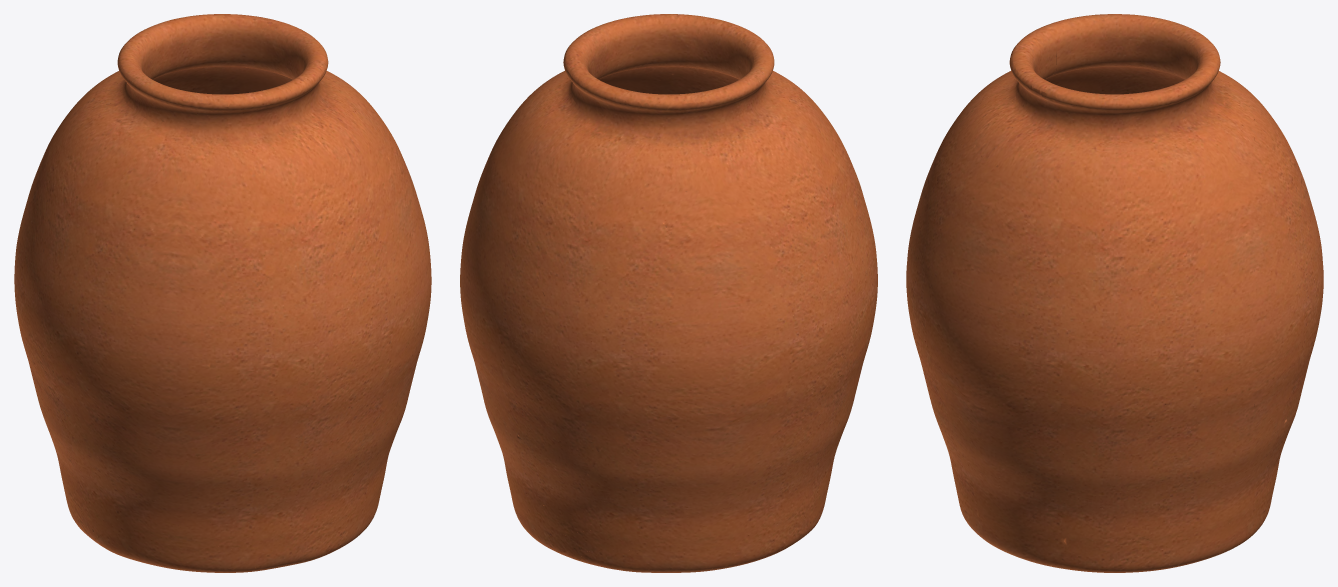
Rendered from obj_imported_pottery_ivik5b3_e0f6ec.glb.
The picture shows the model from 3 angles, left to right: view 1: azimuth 30°, elevation 25°; view 2: azimuth 150°, elevation 25°; view 3: azimuth 270°, elevation 25°; orthographic projection.
Visible parts, largest first — view 1: obj_imported_pottery_ivik5b3_e0f6ec; view 2: obj_imported_pottery_ivik5b3_e0f6ec; view 3: obj_imported_pottery_ivik5b3_e0f6ec.
Part boxes in pixels (x1,y1,x2,y2): obj_imported_pottery_ivik5b3_e0f6ec: [14, 14, 431, 572]; obj_imported_pottery_ivik5b3_e0f6ec: [460, 14, 877, 572]; obj_imported_pottery_ivik5b3_e0f6ec: [906, 14, 1323, 572].
Size of the model in its own units: 0.4113 by 0.5 by 0.4114.
1 material, 1 textured.
